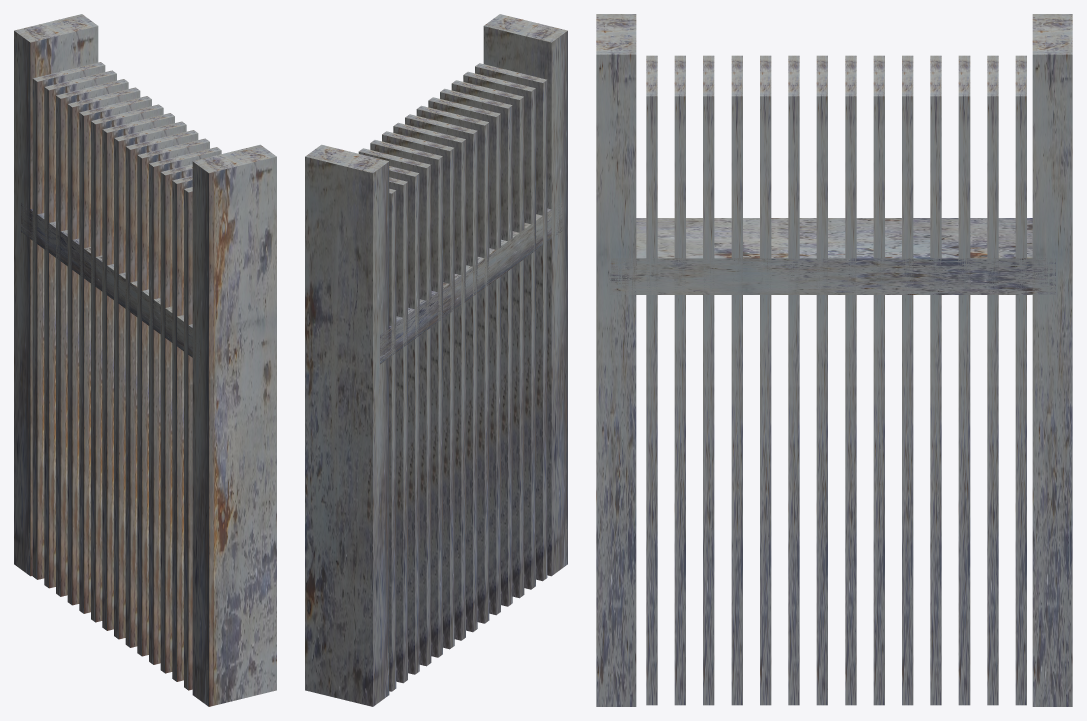
File: gerbang.glb
3 views of the same model, side by side, from view 1: azimuth 30°, elevation 25°; view 2: azimuth 150°, elevation 25°; view 3: azimuth 270°, elevation 25° (orthographic). The views are drawn at different scales.
Parts seen in each view (by area): view 1: Cube.003, Cube, Cube.002, Cube.004; view 2: Cube.003, Cube.002, Cube, Cube.004; view 3: Cube.003, Cube.002, Cube, Cube.004.
Part boxes in pixels (x1,y1,x2,y2): Cube.003: [32, 62, 221, 690]; Cube: [192, 144, 276, 706]; Cube.002: [14, 14, 98, 576]; Cube.004: [21, 203, 199, 357]; Cube.003: [358, 63, 547, 691]; Cube.002: [305, 144, 389, 706]; Cube: [483, 14, 567, 576]; Cube.004: [380, 202, 562, 364]; Cube.003: [646, 55, 1026, 705]; Cube.002: [1032, 14, 1072, 706]; Cube: [596, 14, 636, 706]; Cube.004: [609, 218, 1055, 294].
Bounding box in the file's own units: 0.4 × 3 × 1.99.
4 materials, 4 textured.
